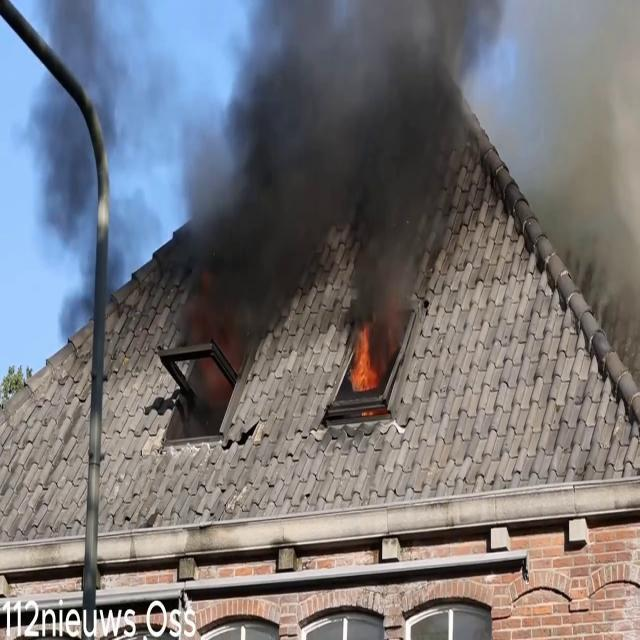Fire: (346, 315, 380, 398)
Smoke: (175, 0, 640, 364), (14, 0, 180, 327), (526, 1, 640, 373)
